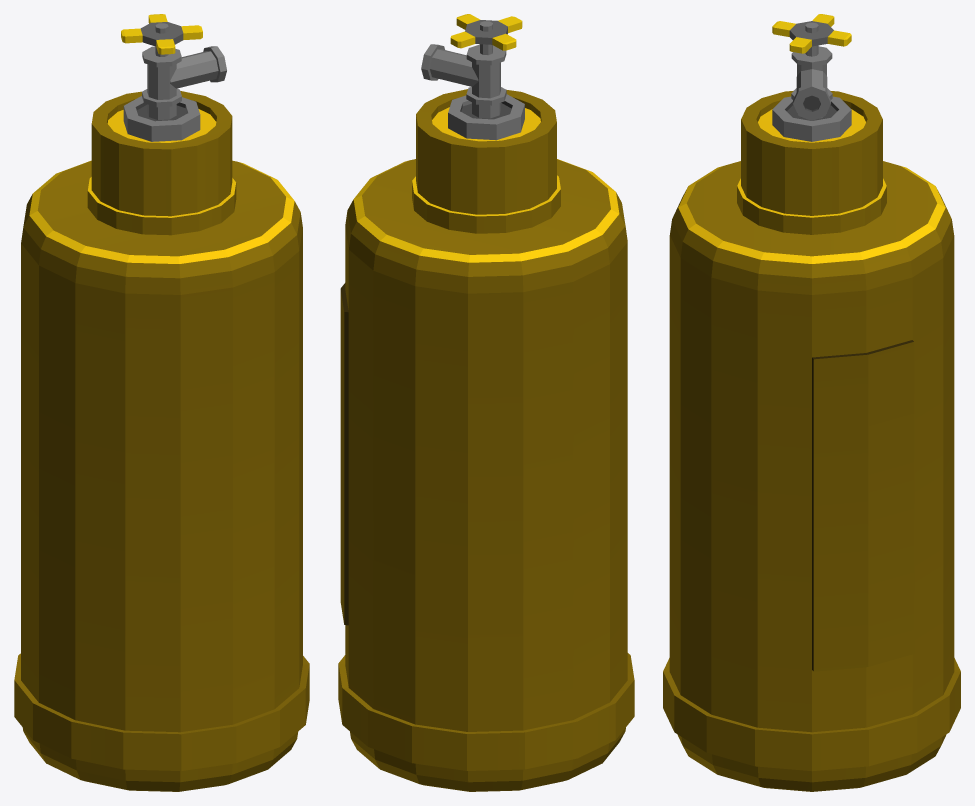
Rendered from SM_Prop_GasCylinder.fbx.
3 renders of one model, left to right at view 1: azimuth 30°, elevation 25°; view 2: azimuth 150°, elevation 25°; view 3: azimuth 270°, elevation 25°, orthographic.
Parts seen in each view (by area): view 1: SM_Prop_GasCylinder; view 2: SM_Prop_GasCylinder; view 3: SM_Prop_GasCylinder.
Part boxes in pixels (x1=…): SM_Prop_GasCylinder: x1=14, y1=14, x2=309, y2=791; SM_Prop_GasCylinder: x1=338, y1=14, x2=634, y2=791; SM_Prop_GasCylinder: x1=663, y1=14, x2=960, y2=791.
Size of the model in its own units: 0.75 by 1.98 by 0.75.
Materials: 1 (1 with a texture image).
